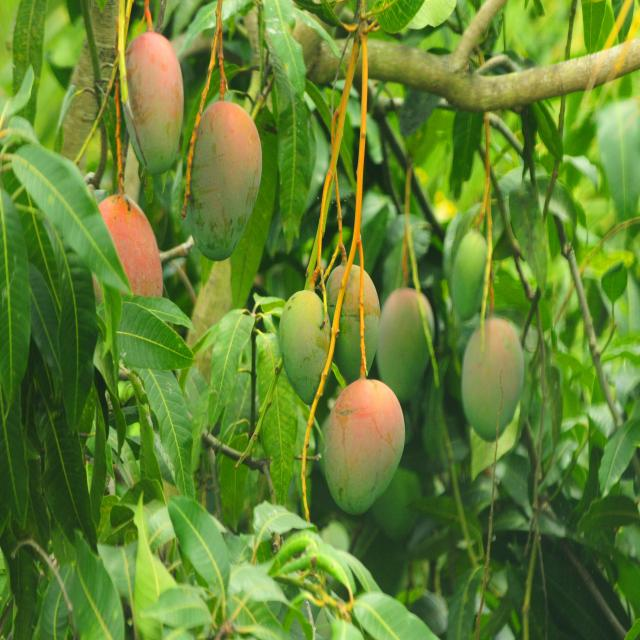mango: (317, 375, 410, 520), (184, 98, 264, 259), (121, 30, 185, 176), (458, 315, 528, 440), (278, 288, 332, 401)
